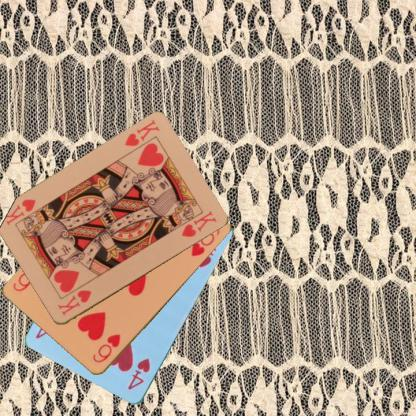4h: (125, 355, 152, 392)
6h: (90, 332, 122, 364)
Kh: (54, 287, 93, 317), (122, 118, 161, 148)
